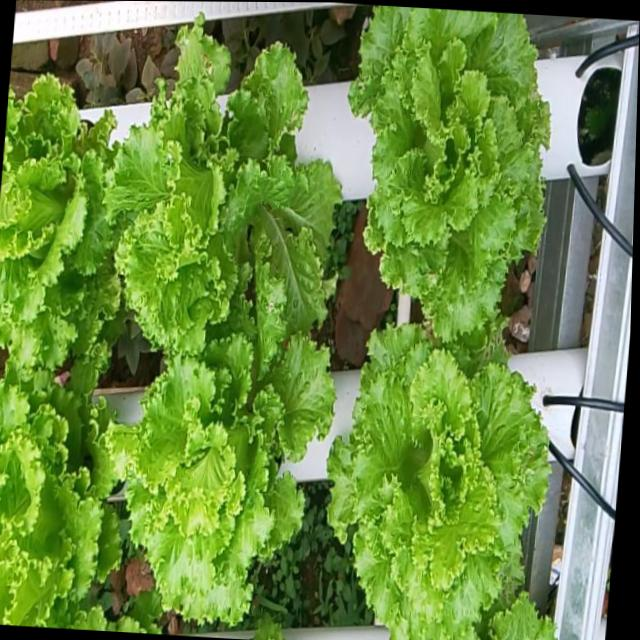Mature: (107, 18, 349, 359), (327, 329, 552, 640), (349, 9, 551, 351), (107, 340, 335, 634), (0, 82, 120, 377), (0, 357, 120, 627)
